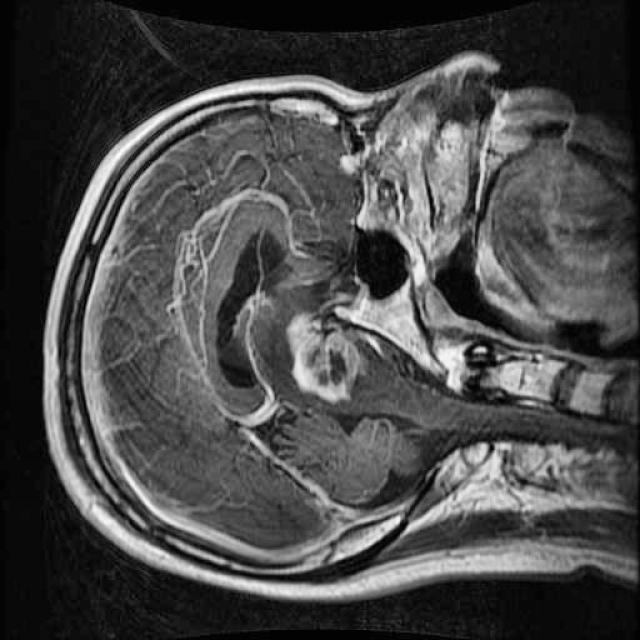Tumor: (280, 304, 370, 414)
